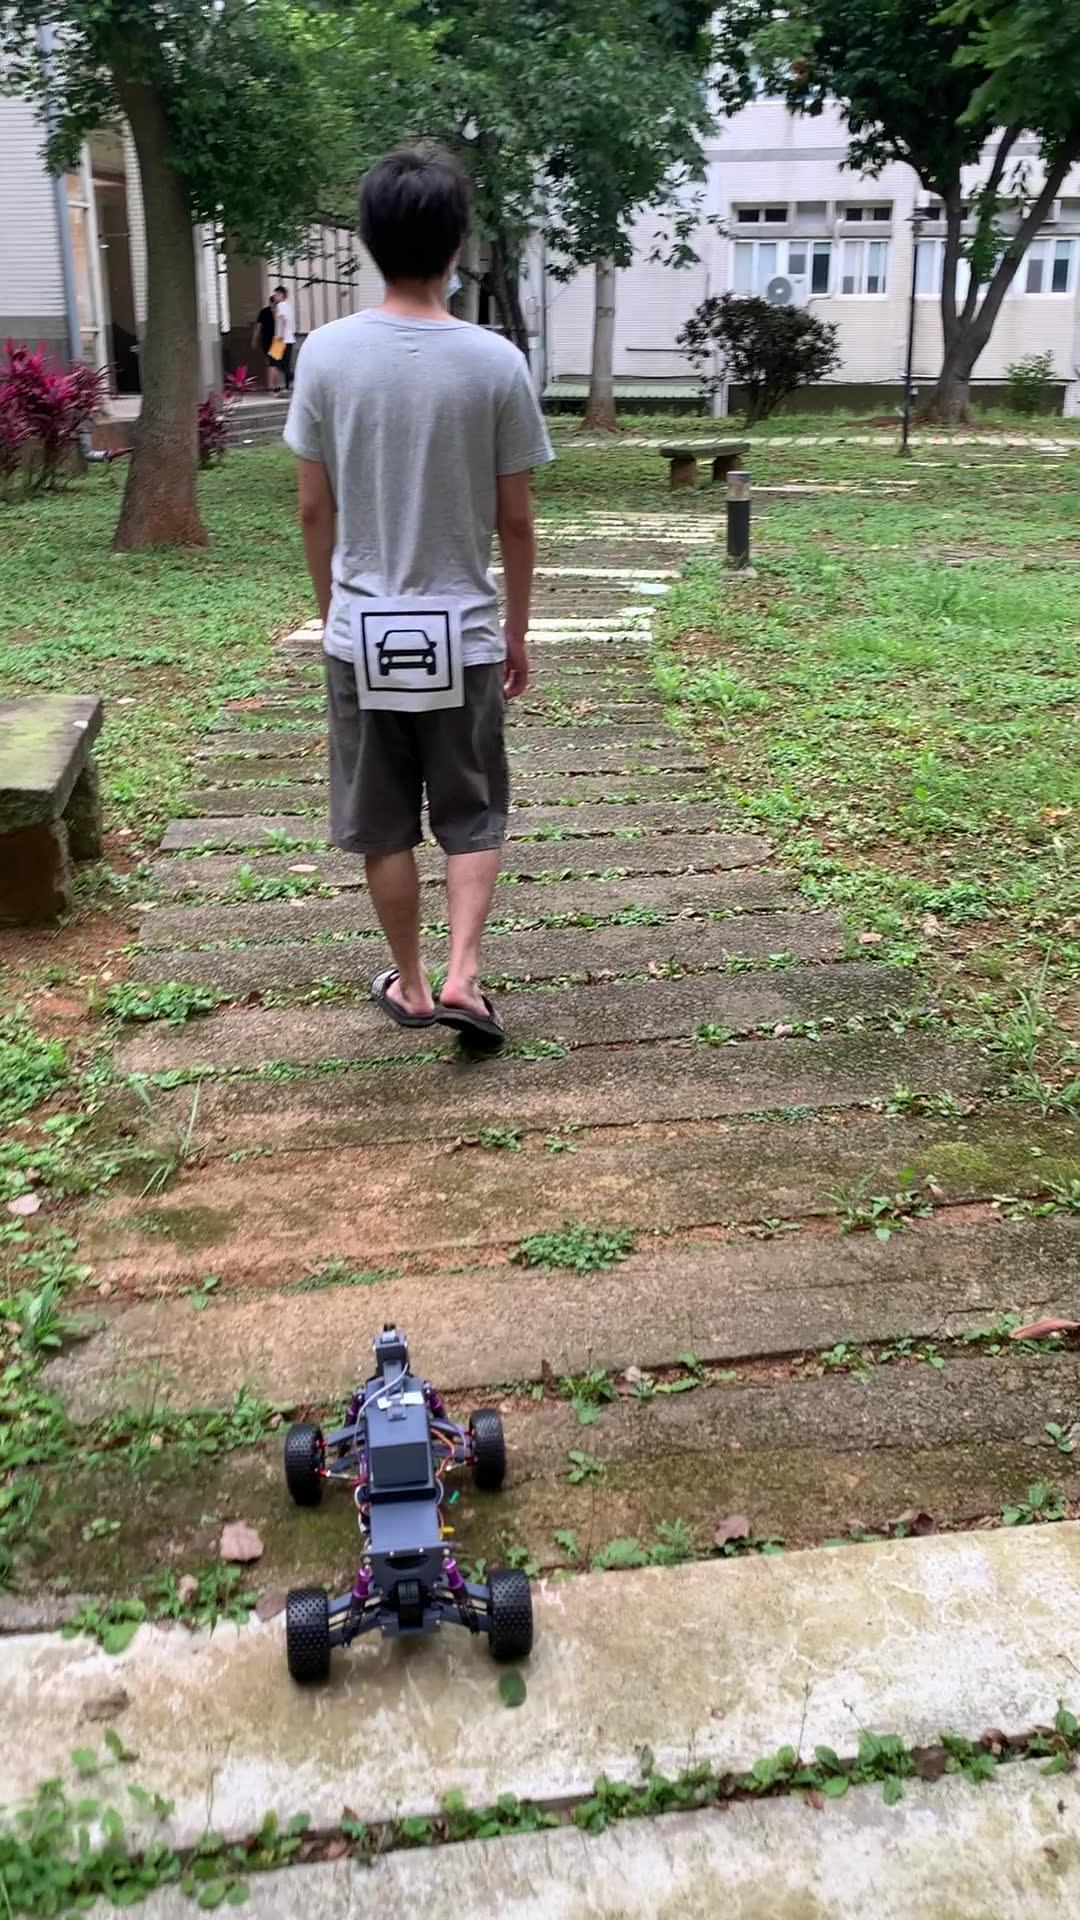car_img: (360, 609, 454, 694)
